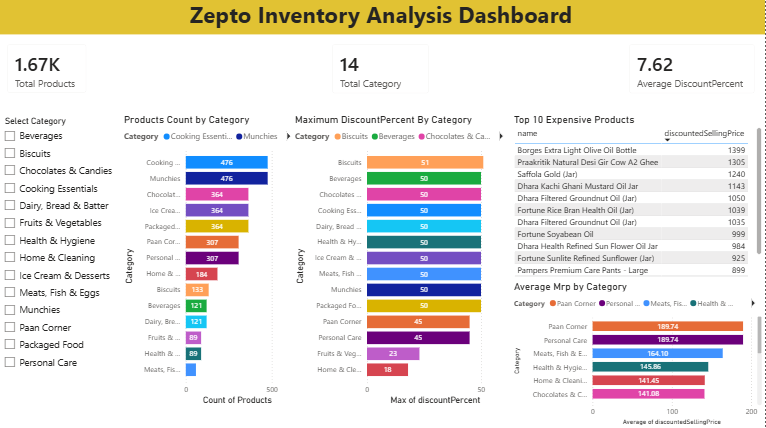

The page's visual inventory and layout, read from the dashboard file:
{"tool":"powerbi","page":{"name":"Page 1","canvas":[1280,720],"ordinal":0},"visuals":[{"type":"barChart","title":"Average Mrp by Category","fields":{"Category":["zepto_v2.Category"],"Y":["Avg(zepto_v2.discountedSellingPrice)"],"Series":["zepto_v2.Category"]},"box":[856.7,473.3,423.3,246.7],"z":0},{"type":"cardVisual","fields":{"Data":["Count(zepto_v2.name)"]},"box":[0,63.8,166.3,115.9],"z":1},{"type":"cardVisual","fields":{"Data":["Count(zepto_v2.Category)"]},"box":[541.7,63.3,195,116.7],"z":2},{"type":"cardVisual","fields":{"Data":["Avg(zepto_v2.discountPercent)"]},"box":[1036.7,63.3,243.3,116.7],"z":3},{"type":"textbox","box":[0,0,1280,63.8],"z":4},{"type":"barChart","title":"Products Count by Category","fields":{"Y":["Count(zepto_v2.name)"],"Category":["zepto_v2.Category"],"Series":["zepto_v2.Category"]},"box":[206.7,195,295,491.7],"z":6},{"type":"barChart","title":"Maximum DiscountPercent By Category","fields":{"Category":["zepto_v2.Category"],"Y":["Max(zepto_v2.discountPercent)"],"Series":["zepto_v2.Category"]},"box":[491.7,195,365,491.7],"z":7},{"type":"tableEx","title":"Top 10 Expensive Products","fields":{"Values":["zepto_v2.name","zepto_v2.discountedSellingPrice"]},"box":[856.7,195,423.3,278.3],"z":8},{"type":"slicer","fields":{"Values":["zepto_v2.Category"]},"box":[0,195,206.7,491.7],"z":9}]}

Visuals, with their boxes in screenshot pixels (x1, y1, x2, y2), scaled from the page's 1280x720 canvas onto the 766x428 screenshot:
"Average Mrp by Category" barChart: detection(513, 281, 765, 427)
cardVisual - Count(zepto_v2.name): detection(0, 38, 100, 107)
cardVisual - Count(zepto_v2.Category): detection(324, 38, 441, 107)
cardVisual - Avg(zepto_v2.discountPercent): detection(620, 38, 765, 107)
textbox: detection(0, 0, 765, 38)
"Products Count by Category" barChart: detection(124, 116, 300, 408)
"Maximum DiscountPercent By Category" barChart: detection(294, 116, 513, 408)
"Top 10 Expensive Products" tableEx: detection(513, 116, 765, 281)
slicer - zepto_v2.Category: detection(0, 116, 124, 408)
